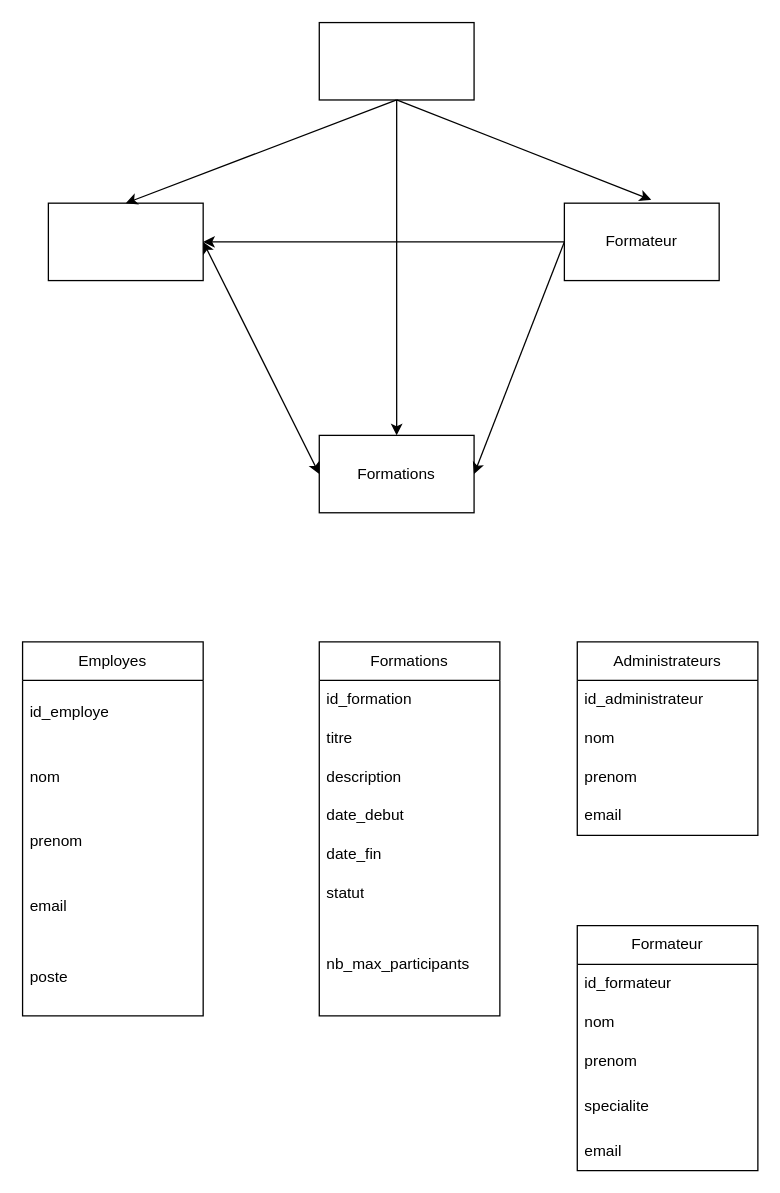
The diagram is 780 pixels wide and 1193 high, and some of its shapes have lost their labels. Here are the shapes that lost their labels. From the top down, the centre of each, then its label:
At point (396, 60): "Administrateur".
At point (125, 241): "Employés".
